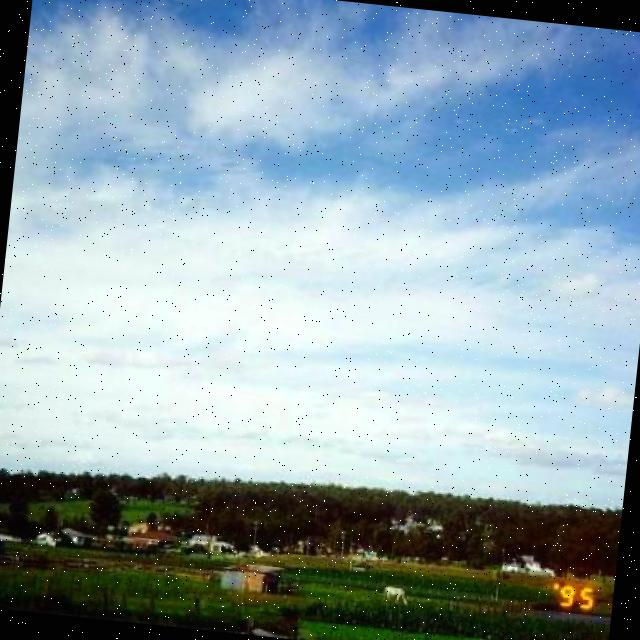Cs: (1, 93, 640, 404)
